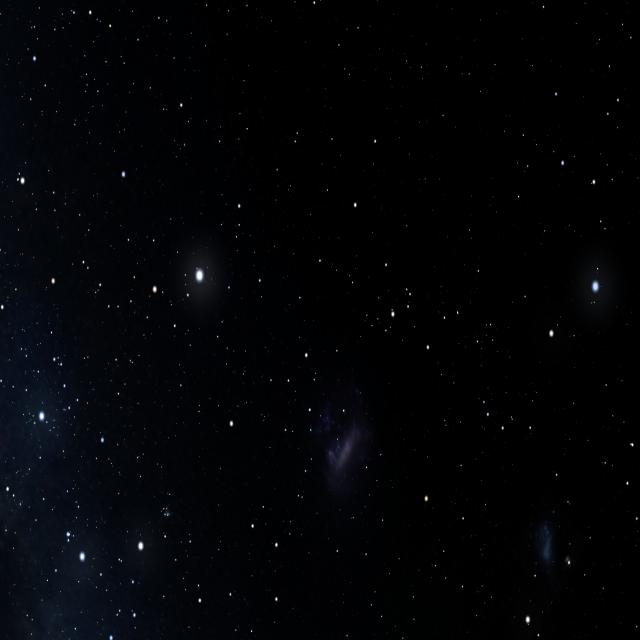Dorado: (283, 136, 378, 414)
